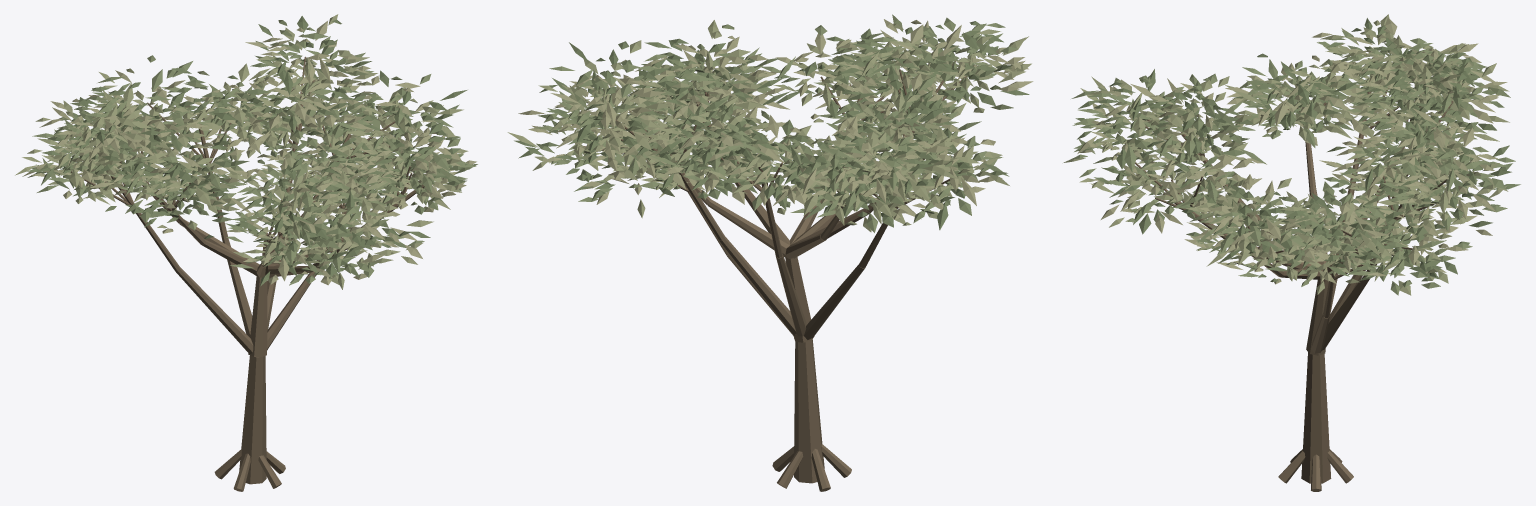
Rendered from DesertAcacia.glb.
The picture shows the model from 3 angles, left to right: view 1: azimuth 30°, elevation 25°; view 2: azimuth 150°, elevation 25°; view 3: azimuth 270°, elevation 25°; orthographic projection. The views are drawn at different scales.
Visible parts, largest first — view 1: DesertAcacia; view 2: DesertAcacia; view 3: DesertAcacia.
Boxes of the visible parts, left/top/right/bottom form: DesertAcacia: left=15, top=14, right=477, bottom=491; DesertAcacia: left=507, top=14, right=1033, bottom=491; DesertAcacia: left=1063, top=14, right=1520, bottom=491.
Size of the model in its own units: 5.09 by 4.22 by 4.5.
